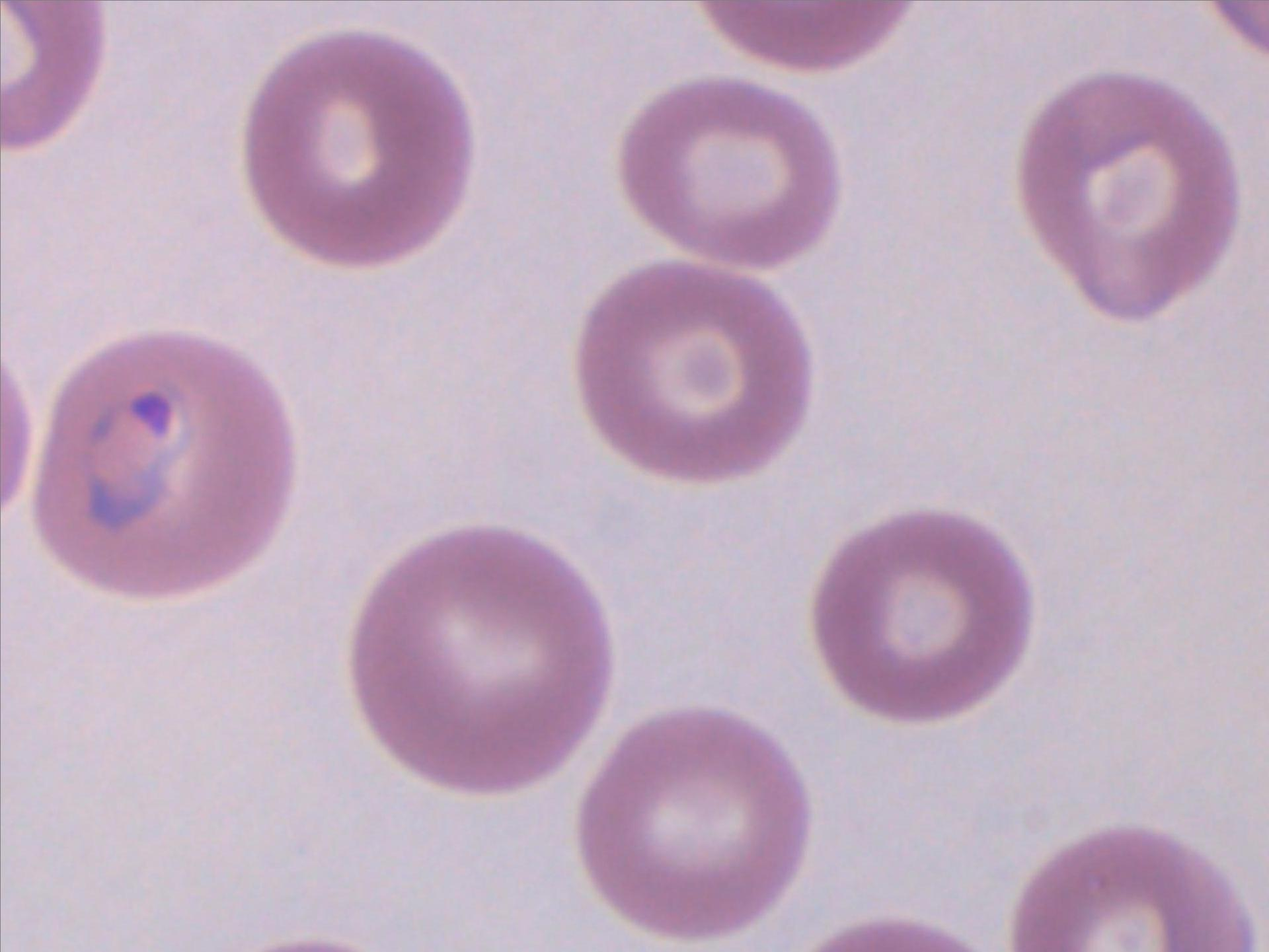Infected: (33, 333, 317, 613)
Uninfected: (348, 529, 614, 793), (1024, 73, 1238, 326), (582, 703, 811, 939), (566, 267, 808, 489), (245, 40, 477, 270), (815, 507, 1035, 729), (619, 80, 842, 276)
